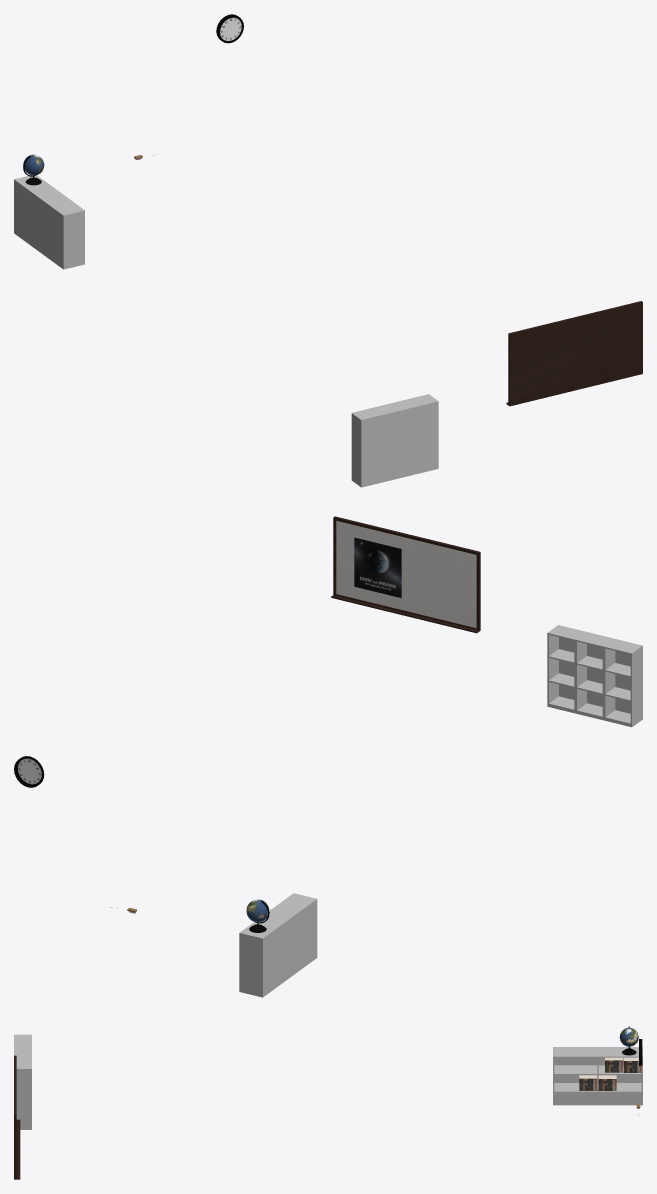
The model's file is Classroom_Extra.glb.
3 renders of one model, top to bottom at view 1: azimuth 30°, elevation 25°; view 2: azimuth 150°, elevation 25°; view 3: azimuth 270°, elevation 25°, orthographic. The views are drawn at different scales.
Visible parts, largest first — view 1: Board, Bookcase, Shelf, Shelf.002, Shelf.001; view 2: Board, Bookcase, Shelf, Shelf.001, Shelf.002, Poster, Clock; view 3: Bookcase, Shelf.002, Board, Books.002, Books.003, Globe, Books.001, Books.
Boxes of the visible parts, <box> form: Board: <box>506,301,642,406</box>; Bookcase: <box>14,175,84,269</box>; Shelf: <box>351,406,387,487</box>; Shelf.002: <box>403,394,438,474</box>; Shelf.001: <box>378,400,412,481</box>; Board: <box>331,516,480,633</box>; Bookcase: <box>239,893,317,997</box>; Shelf: <box>604,639,642,727</box>; Shelf.001: <box>575,632,614,720</box>; Shelf.002: <box>547,625,586,713</box>; Poster: <box>354,537,401,597</box>; Clock: <box>14,756,44,787</box>; Bookcase: <box>553,1047,642,1105</box>; Shelf.002: <box>16,1057,31,1129</box>; Board: <box>14,1055,20,1179</box>; Books.002: <box>598,1075,616,1090</box>; Books.003: <box>579,1075,597,1090</box>; Globe: <box>619,1027,638,1046</box>; Books.001: <box>605,1057,622,1072</box>; Books: <box>623,1057,641,1072</box>.
Bounding box in the file's own units: 6.55 × 3.7 × 14.
Materials: 3 (3 with a texture image).
